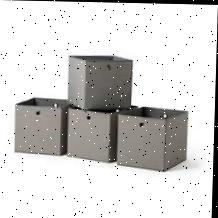cube: (116, 106, 189, 171), (69, 55, 135, 107), (13, 96, 69, 155)
